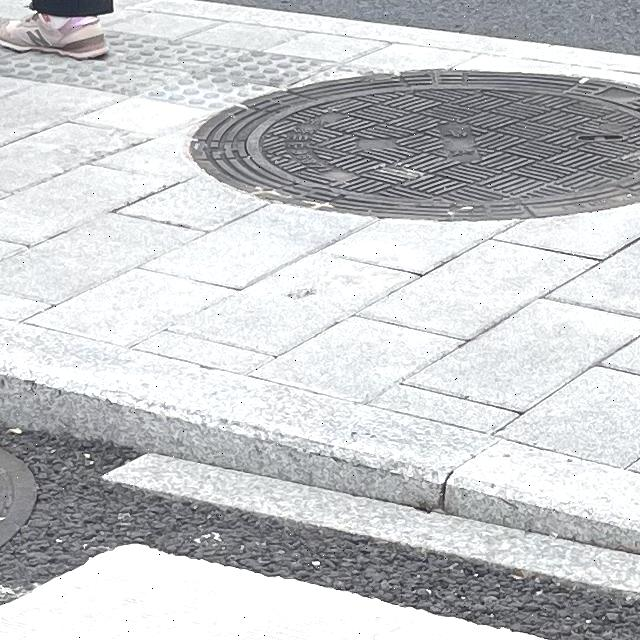curb: (0, 328, 639, 552), (118, 0, 639, 76)
